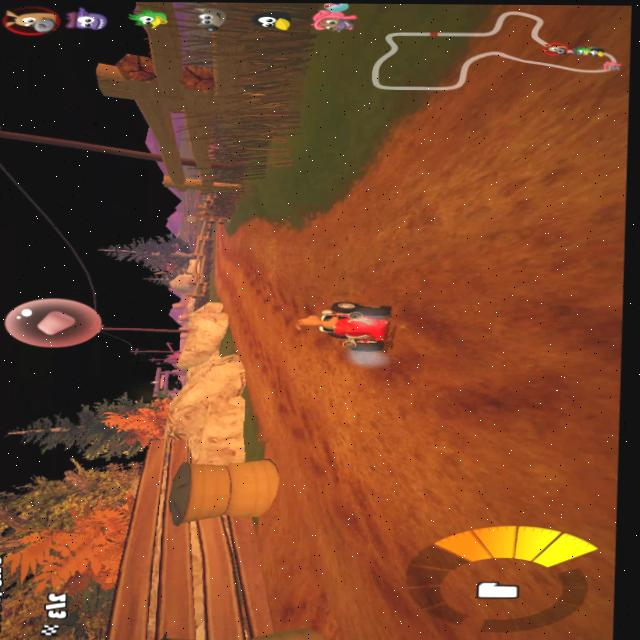player_kart: (296, 295, 401, 356)
track: (456, 36, 624, 522), (418, 85, 492, 640), (292, 355, 411, 524), (483, 522, 614, 640), (304, 219, 440, 296), (253, 221, 298, 406), (238, 223, 269, 356), (202, 226, 237, 285)
